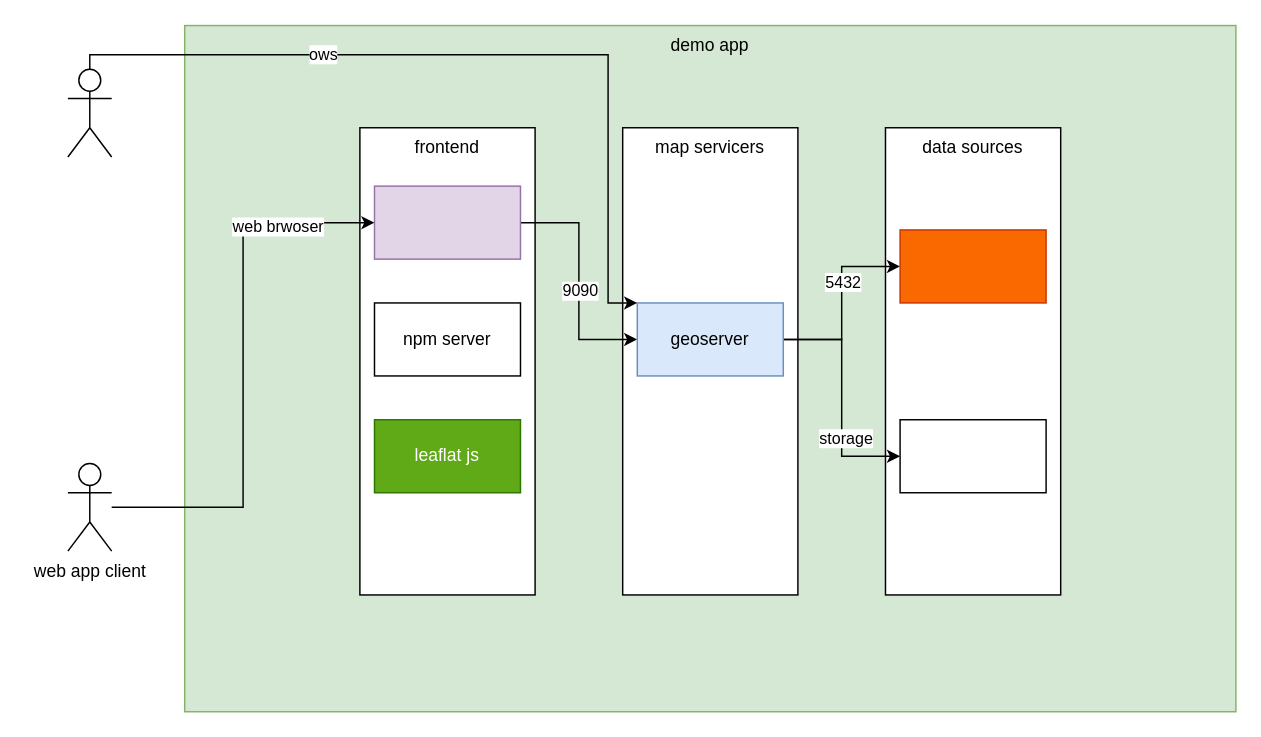
The diagram is 1261 pixels wide and 737 high, and some of its shapes have lost their labels. The centre of each missing label's shape, as x and y in pixels:
"gis system client" belongs at point 89,112.
"gpkg, fgb files" belongs at point 972,455.
"postgis" belongs at point 972,265.
"react app" belongs at point 446,222.
